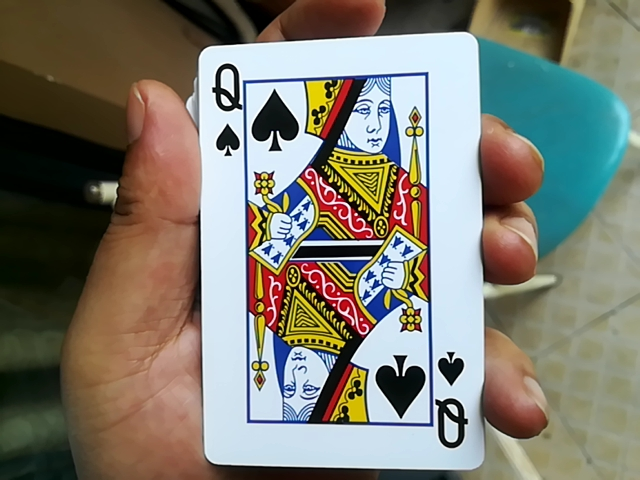ht q: (176, 32, 493, 474)
